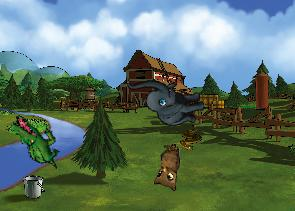crocodile: (1, 113, 70, 170)
elephant: (126, 64, 208, 136)
owl: (150, 143, 181, 191)
